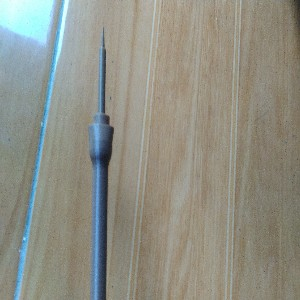solder: (87, 23, 115, 300)
